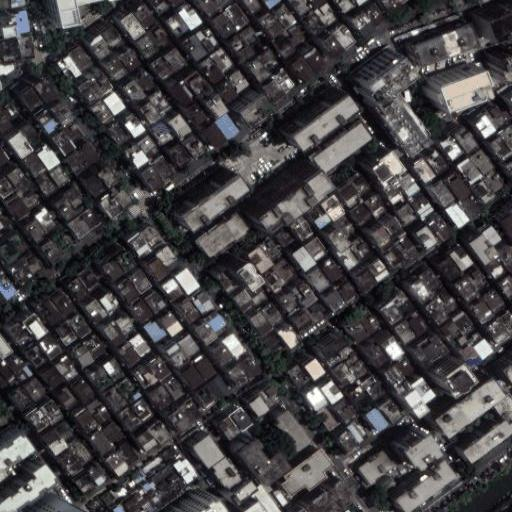building: (87, 449, 172, 512), (243, 160, 318, 225), (432, 377, 503, 437), (170, 167, 240, 225), (280, 87, 349, 144), (105, 464, 186, 512), (388, 455, 450, 508), (366, 80, 418, 140), (310, 120, 369, 171), (405, 20, 471, 63), (237, 436, 292, 486), (275, 447, 329, 496), (194, 210, 247, 257), (0, 459, 48, 510), (352, 46, 403, 93), (460, 419, 512, 464), (286, 476, 343, 512), (269, 409, 311, 455), (426, 61, 479, 94), (392, 423, 430, 461), (469, 225, 504, 265), (331, 350, 368, 385), (474, 1, 512, 35), (191, 434, 225, 469), (431, 355, 465, 389), (413, 334, 448, 367), (320, 334, 354, 367), (35, 297, 66, 331), (21, 490, 68, 512), (432, 80, 475, 104), (213, 455, 244, 488), (239, 95, 272, 126), (169, 488, 211, 512), (360, 452, 393, 482), (69, 209, 102, 239), (55, 447, 85, 479), (174, 0, 204, 31), (208, 44, 238, 75), (49, 289, 78, 321), (49, 127, 79, 157), (180, 69, 210, 99), (40, 427, 69, 458), (193, 23, 222, 54), (247, 244, 276, 274), (269, 30, 298, 60), (9, 320, 37, 351), (0, 428, 24, 464), (187, 287, 216, 316), (165, 114, 194, 143), (320, 193, 348, 223), (131, 2, 159, 32), (257, 10, 285, 40), (251, 486, 283, 512), (491, 393, 512, 432), (204, 308, 232, 337), (132, 427, 160, 456), (284, 360, 312, 389), (115, 377, 142, 407), (148, 91, 176, 119), (173, 267, 200, 296), (369, 158, 396, 187), (306, 265, 333, 294), (318, 256, 345, 285), (274, 321, 301, 350), (157, 311, 184, 340), (168, 407, 195, 436), (65, 312, 92, 341), (403, 391, 430, 420), (116, 46, 143, 75), (270, 1, 297, 30), (18, 121, 44, 151), (34, 76, 60, 106), (20, 376, 47, 404), (100, 256, 127, 284), (145, 418, 172, 446), (74, 407, 101, 435), (24, 406, 51, 434), (457, 157, 484, 185), (98, 24, 125, 52), (146, 22, 173, 50), (161, 45, 189, 72), (215, 112, 242, 140), (334, 427, 361, 455), (486, 44, 512, 73), (384, 366, 410, 395), (199, 55, 225, 84), (380, 179, 407, 206), (179, 133, 206, 160), (319, 34, 346, 61), (6, 355, 32, 383), (412, 157, 438, 185), (423, 148, 449, 176), (445, 200, 471, 228), (455, 192, 481, 220), (394, 169, 420, 197), (366, 257, 392, 285), (238, 263, 264, 291), (127, 231, 153, 259), (84, 298, 110, 326), (134, 363, 160, 391), (102, 386, 128, 414), (25, 342, 51, 370), (7, 384, 33, 412), (453, 127, 479, 155), (35, 169, 61, 197), (50, 98, 76, 126), (76, 79, 102, 107), (120, 13, 146, 41), (183, 34, 209, 62), (37, 334, 63, 361), (180, 399, 206, 426), (156, 245, 182, 272), (279, 291, 305, 318), (249, 312, 275, 339), (194, 318, 220, 345), (102, 321, 128, 348), (117, 341, 143, 368), (448, 246, 474, 273), (33, 142, 59, 169), (78, 142, 104, 169), (90, 98, 116, 125), (212, 12, 238, 39), (289, 58, 315, 85), (65, 118, 90, 146), (171, 80, 196, 108), (229, 480, 257, 505), (181, 365, 207, 391), (87, 366, 113, 392), (70, 469, 96, 495), (121, 116, 147, 142), (146, 355, 171, 382), (431, 181, 456, 208), (382, 150, 407, 177), (292, 282, 317, 309), (261, 303, 286, 330), (165, 343, 190, 370), (439, 134, 464, 161), (425, 300, 450, 327), (459, 344, 484, 371), (411, 378, 436, 405), (16, 182, 41, 209), (22, 151, 47, 178), (68, 45, 93, 72), (88, 70, 113, 97), (102, 89, 127, 116), (123, 79, 148, 106), (135, 32, 160, 59), (332, 396, 357, 423), (24, 316, 49, 342), (70, 380, 95, 406), (205, 373, 230, 399), (139, 223, 164, 249), (224, 332, 249, 358), (238, 352, 263, 378), (363, 194, 388, 220), (353, 267, 378, 293), (351, 236, 376, 262), (292, 246, 317, 272), (232, 289, 257, 315), (132, 299, 157, 325), (116, 278, 141, 304), (66, 276, 91, 302), (151, 385, 176, 411), (53, 321, 78, 347), (81, 334, 106, 360), (117, 407, 142, 433), (437, 255, 462, 281), (380, 399, 405, 425), (305, 385, 330, 411), (8, 133, 33, 159), (98, 194, 123, 220), (226, 68, 252, 93), (224, 3, 249, 29), (312, 1, 337, 27), (349, 382, 374, 408), (40, 400, 64, 427), (130, 398, 155, 423), (348, 203, 373, 228), (338, 246, 363, 271), (69, 344, 94, 369), (55, 357, 79, 383), (78, 267, 102, 293), (130, 333, 154, 359), (327, 229, 351, 255), (177, 297, 201, 323), (471, 149, 495, 175), (471, 179, 495, 205), (365, 407, 389, 433), (41, 239, 65, 265), (47, 162, 71, 188), (152, 120, 176, 146), (204, 122, 228, 148), (285, 22, 309, 48), (173, 457, 196, 484), (163, 377, 187, 402), (415, 225, 439, 250), (428, 216, 452, 241), (337, 182, 361, 207), (262, 266, 286, 291), (292, 309, 316, 334), (212, 340, 236, 365), (106, 450, 130, 475), (91, 431, 115, 456), (43, 365, 67, 390), (55, 384, 79, 409), (481, 168, 505, 193), (485, 106, 509, 131), (381, 336, 405, 361), (11, 261, 35, 286), (54, 196, 78, 221), (125, 145, 149, 170), (151, 157, 175, 182), (138, 102, 162, 127), (303, 49, 327, 74), (218, 414, 241, 440), (105, 56, 128, 82), (144, 291, 168, 315), (445, 175, 469, 199), (370, 225, 394, 249), (305, 238, 329, 262), (147, 257, 171, 281), (26, 220, 50, 244), (136, 135, 160, 159), (161, 441, 185, 465), (88, 400, 111, 425), (115, 313, 138, 338), (291, 216, 314, 241), (273, 258, 296, 283), (144, 317, 167, 342), (419, 268, 442, 293), (410, 279, 433, 304), (392, 290, 415, 315), (64, 148, 87, 173), (110, 186, 133, 211), (57, 56, 80, 81), (118, 442, 141, 466), (103, 423, 126, 447), (70, 440, 93, 464), (84, 461, 107, 485), (98, 292, 121, 316), (129, 270, 152, 294), (194, 357, 217, 381), (383, 216, 406, 240), (395, 238, 418, 262), (323, 288, 346, 312), (305, 300, 328, 324), (162, 277, 185, 301), (228, 362, 251, 386), (194, 383, 217, 407), (114, 249, 137, 273), (488, 135, 511, 159), (452, 313, 475, 337), (382, 300, 405, 324), (406, 312, 429, 336), (320, 380, 343, 404), (229, 407, 252, 431), (19, 87, 42, 111), (97, 166, 120, 190), (108, 123, 131, 147), (141, 166, 164, 190), (88, 35, 111, 59), (166, 13, 189, 37), (262, 78, 285, 102), (301, 11, 324, 35), (333, 27, 356, 51), (353, 12, 376, 36), (493, 348, 512, 377), (362, 374, 384, 399), (101, 358, 124, 381), (176, 334, 199, 357), (482, 291, 505, 314), (5, 167, 28, 190), (229, 35, 252, 58), (54, 419, 76, 443), (332, 216, 356, 238), (455, 278, 477, 302), (215, 269, 237, 292), (263, 331, 285, 354), (474, 116, 496, 139), (465, 269, 487, 292), (396, 321, 418, 344), (366, 346, 388, 369), (304, 358, 326, 381), (82, 174, 105, 196), (134, 69, 156, 92), (168, 143, 190, 166), (206, 97, 228, 120), (273, 71, 295, 94), (364, 4, 386, 27), (13, 10, 32, 36), (397, 203, 419, 225), (247, 58, 269, 80), (349, 174, 370, 197), (489, 320, 510, 343), (23, 254, 44, 277), (36, 208, 57, 231), (414, 200, 436, 221), (385, 247, 406, 269), (489, 262, 510, 284), (472, 300, 493, 322), (248, 395, 269, 417), (40, 111, 62, 132), (240, 28, 261, 50), (2, 40, 21, 64), (197, 0, 222, 18), (0, 333, 13, 367), (337, 281, 358, 302), (436, 292, 457, 313), (394, 357, 415, 378), (9, 196, 30, 217), (261, 238, 281, 260), (276, 227, 296, 248), (441, 321, 461, 342), (472, 339, 493, 359), (152, 57, 172, 78), (259, 388, 279, 409), (319, 407, 338, 429), (220, 84, 240, 104), (259, 51, 278, 72), (17, 37, 35, 59), (249, 287, 268, 306), (350, 322, 369, 341), (347, 423, 365, 443), (361, 315, 379, 334), (66, 189, 84, 208), (499, 125, 512, 151), (192, 109, 210, 127), (314, 212, 333, 229), (500, 213, 512, 239), (499, 276, 512, 300), (499, 313, 512, 336), (500, 253, 512, 277), (0, 113, 14, 131), (3, 25, 18, 39), (262, 0, 282, 10), (506, 161, 512, 174)
